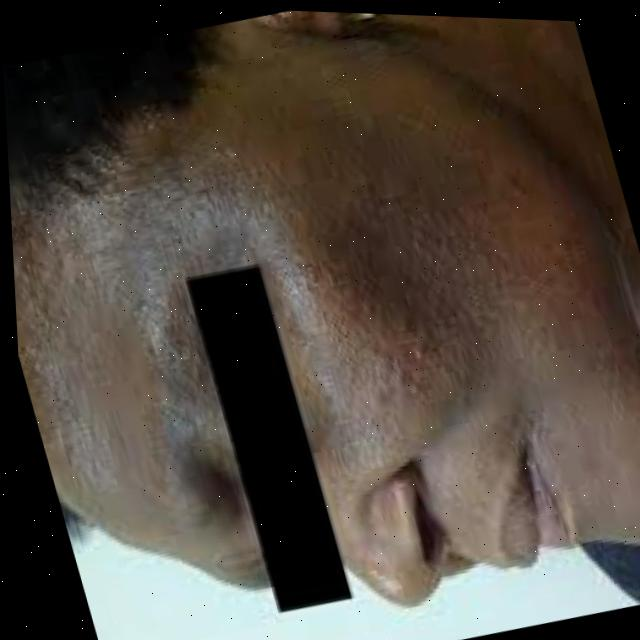Rosacea: (269, 94, 612, 412)
